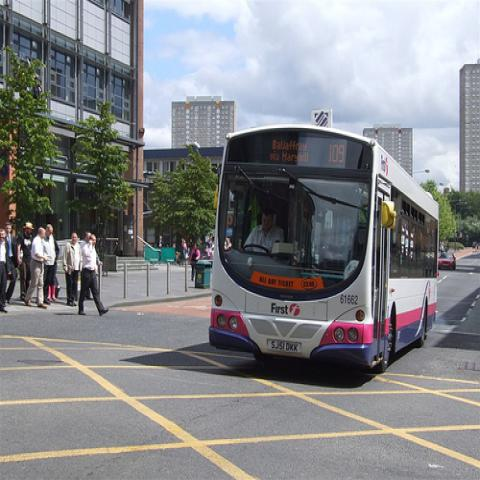bus: (208, 122, 441, 374)
car: (439, 252, 457, 270)
